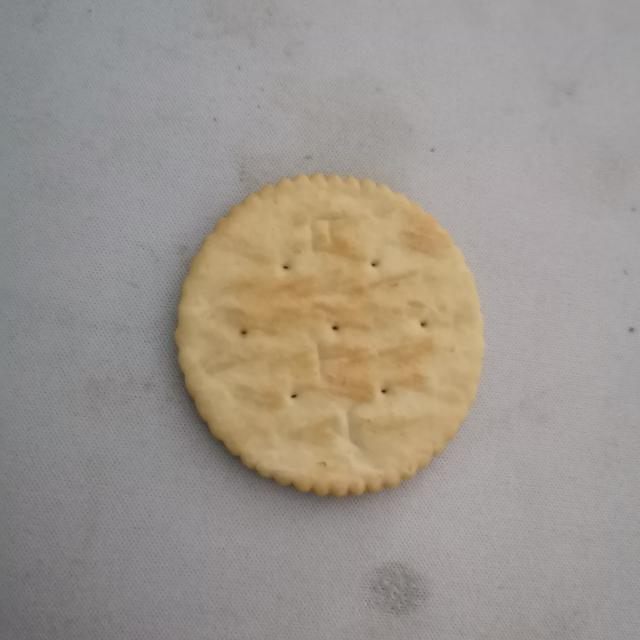Intact: (169, 162, 496, 505)
